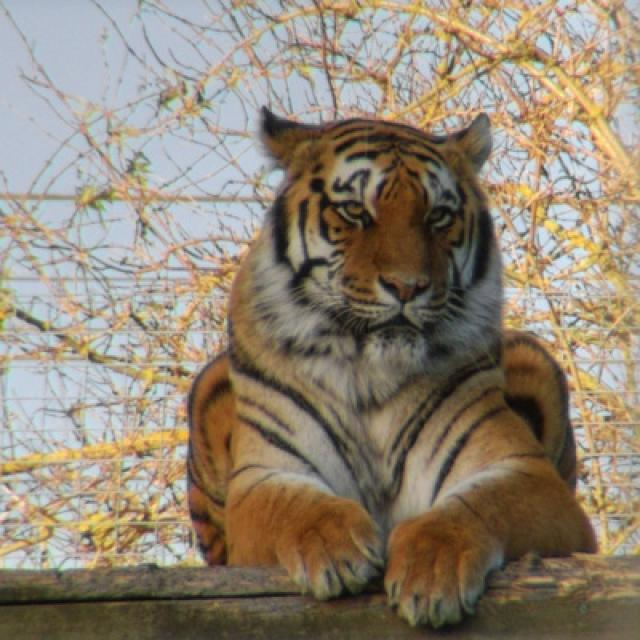Tiger: (185, 103, 606, 627)
